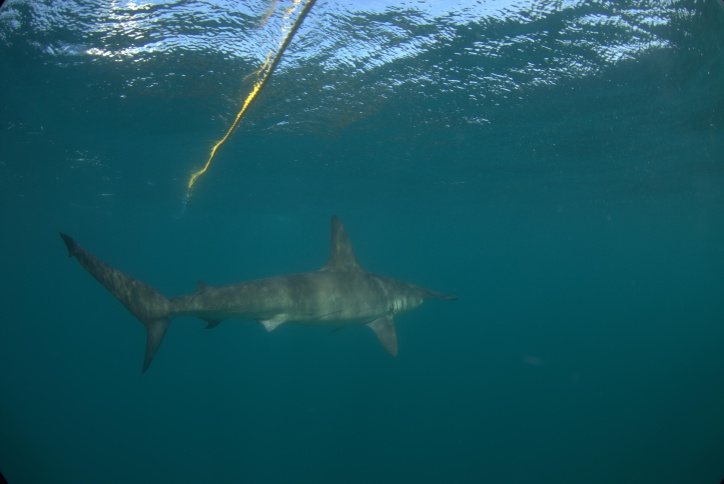Hammer: (350, 192, 550, 284)
